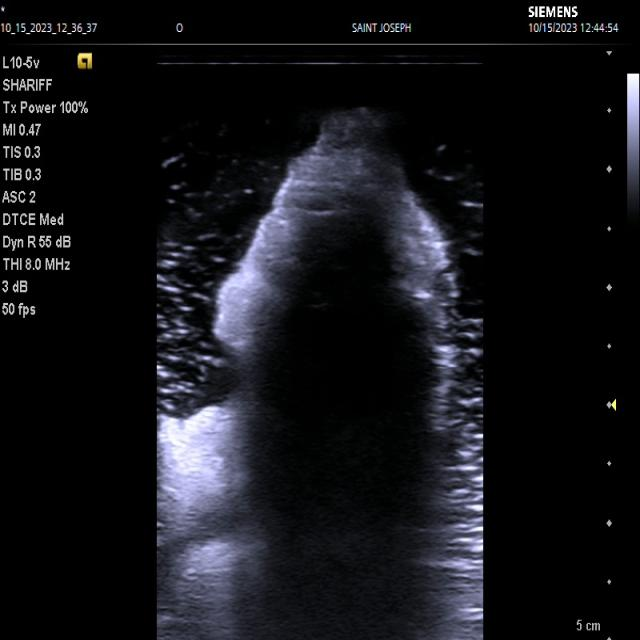tissue: (157, 110, 482, 640)
